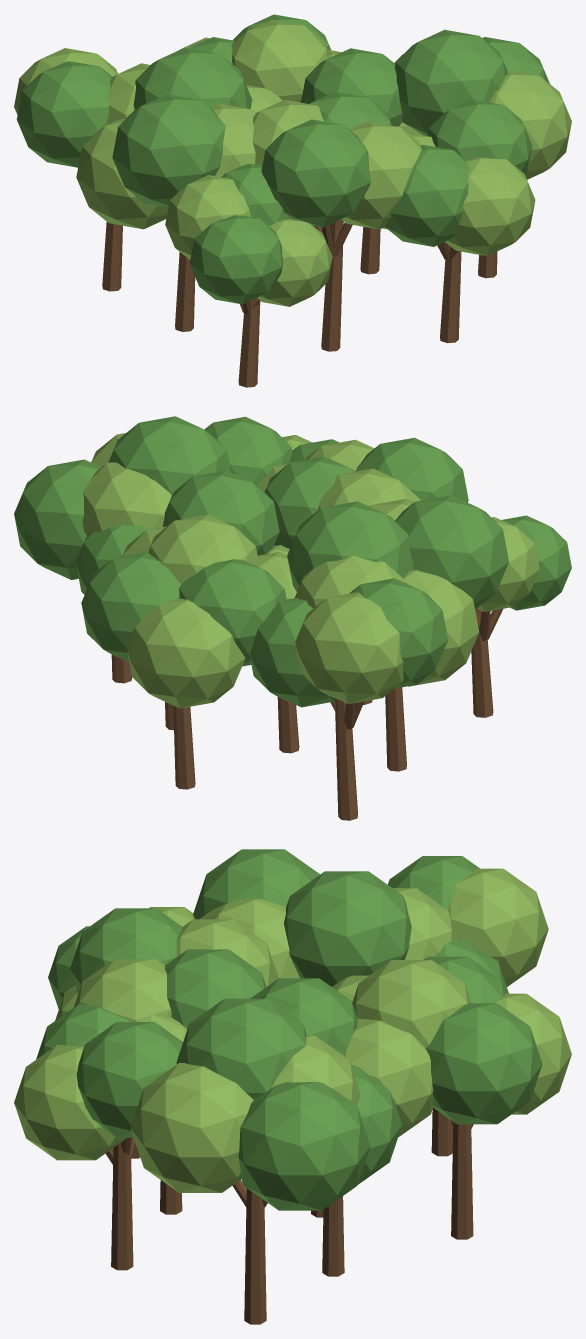
Rendered from FEATURE_FOREST_v02.fbx.
The picture shows the model from 3 angles, top to bottom: view 1: azimuth 30°, elevation 25°; view 2: azimuth 150°, elevation 25°; view 3: azimuth 270°, elevation 25°; orthographic projection. The views are drawn at different scales.
Visible parts, largest first — view 1: Broadleaf_crown.086, Broadleaf_crown.078, Broadleaf_crown.102, Broadleaf_crown.106, Broadleaf_crown.098, Broadleaf_crown.091, Broadleaf_crown.090, Broadleaf_crown.095, Broadleaf_crown.084, Broadleaf_crown.088, Broadleaf_crown.079, Broadleaf_crown.103 (+20 smaller); view 2: Broadleaf_crown.093, Broadleaf_crown.105, Broadleaf_crown.086, Broadleaf_crown.100, Broadleaf_crown.084, Broadleaf_crown.092, Broadleaf_crown.102, Broadleaf_crown.094, Broadleaf_crown.082, Broadleaf_crown.106, Broadleaf_crown.104, Broadleaf_crown.101 (+18 smaller); view 3: Broadleaf_crown.100, Broadleaf_crown.103, Broadleaf_crown.084, Broadleaf_crown.092, Broadleaf_crown.102, Broadleaf_crown.088, Broadleaf_crown.105, Broadleaf_crown.091, Broadleaf_crown.095, Broadleaf_crown.081, Broadleaf_crown.078, Broadleaf_crown.076 (+20 smaller).
Part boxes in pixels (x1,y1,x2,y2): Broadleaf_crown.086: [112, 94, 225, 207]; Broadleaf_crown.078: [261, 119, 370, 227]; Broadleaf_crown.102: [395, 29, 507, 135]; Broadleaf_crown.106: [16, 61, 112, 167]; Broadleaf_crown.098: [189, 215, 283, 304]; Broadleaf_crown.091: [445, 157, 535, 255]; Broadleaf_crown.090: [385, 144, 469, 246]; Broadleaf_crown.095: [231, 19, 328, 102]; Broadleaf_crown.084: [133, 47, 252, 109]; Broadleaf_crown.088: [427, 99, 532, 174]; Broadleaf_crown.079: [341, 121, 421, 229]; Broadleaf_crown.103: [489, 70, 571, 179]; Broadleaf_crown.093: [127, 598, 245, 708]; Broadleaf_crown.105: [295, 592, 403, 703]; Broadleaf_crown.086: [395, 495, 508, 609]; Broadleaf_crown.100: [14, 459, 101, 579]; Broadleaf_crown.084: [287, 501, 413, 591]; Broadleaf_crown.092: [81, 552, 181, 661]; Broadleaf_crown.102: [108, 416, 230, 494]; Broadleaf_crown.094: [179, 559, 286, 666]; Broadleaf_crown.082: [163, 470, 279, 555]; Broadleaf_crown.106: [349, 578, 447, 688]; Broadleaf_crown.104: [250, 598, 336, 707]; Broadleaf_crown.101: [82, 462, 171, 536]; Broadleaf_crown.100: [238, 1082, 370, 1210]; Broadleaf_crown.103: [130, 1063, 253, 1192]; Broadleaf_crown.084: [284, 871, 411, 986]; Broadleaf_crown.092: [426, 1003, 542, 1124]; Broadleaf_crown.102: [176, 998, 306, 1099]; Broadleaf_crown.088: [76, 1022, 182, 1137]; Broadleaf_crown.105: [448, 868, 548, 986]; Broadleaf_crown.091: [14, 1045, 126, 1160]; Broadleaf_crown.095: [352, 960, 471, 1048]; Broadleaf_crown.081: [343, 1018, 433, 1136]; Broadleaf_crown.078: [70, 908, 182, 993]; Broadleaf_crown.076: [165, 949, 266, 1028].
Bounding box in the file's own units: 134 × 71.78 × 122.
